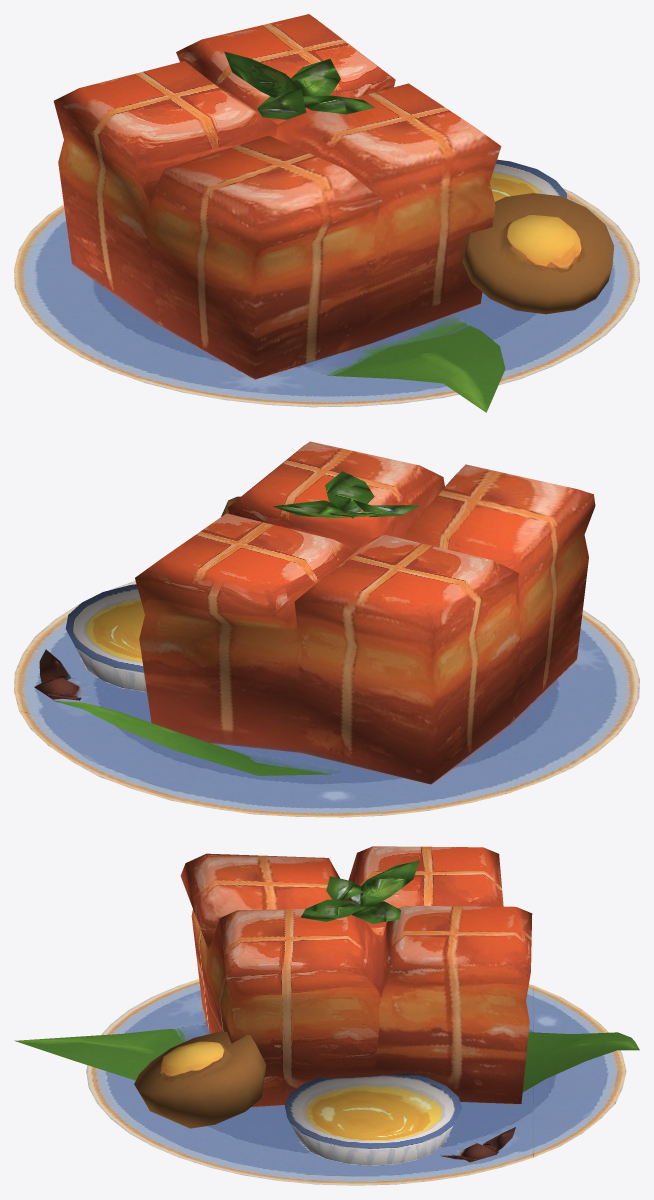
Rendered from vegetable04_M.FBX.
The picture shows the model from 3 angles, top to bottom: view 1: azimuth 30°, elevation 25°; view 2: azimuth 150°, elevation 25°; view 3: azimuth 270°, elevation 25°; orthographic projection. The views are drawn at different scales.
Visible parts, largest first — view 1: tripo_node_802d4735; view 2: tripo_node_802d4735; view 3: tripo_node_802d4735.
Boxes of the visible parts, x1=… form: tripo_node_802d4735: x1=14, y1=14, x2=639, y2=412; tripo_node_802d4735: x1=14, y1=441, x2=639, y2=817; tripo_node_802d4735: x1=14, y1=846, x2=639, y2=1185.
Size of the model in its own units: 0.7785 by 0.3125 by 0.902.
